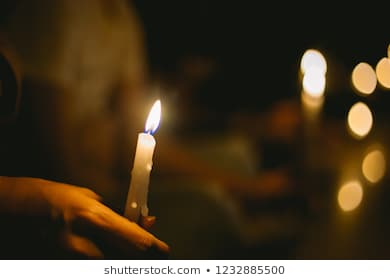Fire: (141, 92, 166, 140)
